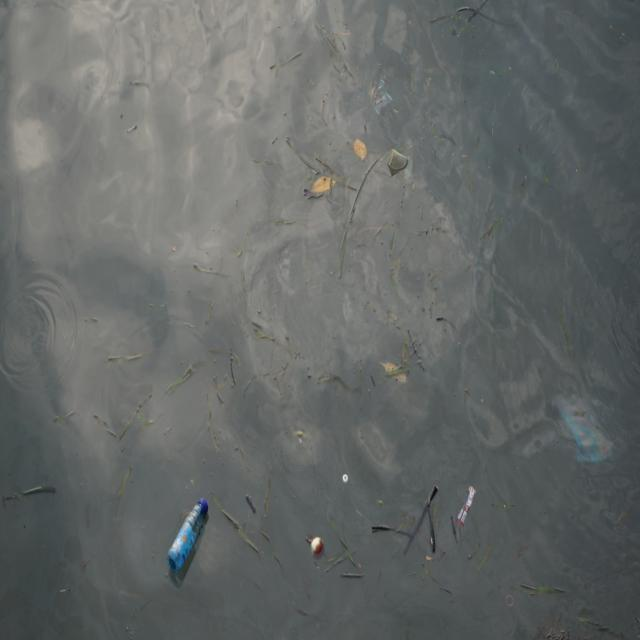Botol Plastik: (166, 494, 209, 579)
Bungkus Makanan: (455, 479, 478, 530)
Bungkus Minuman: (388, 146, 416, 179)
